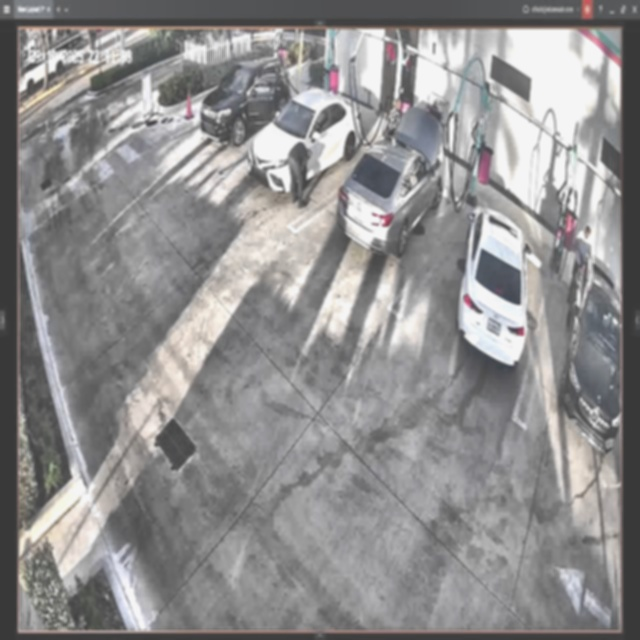Car: (339, 109, 445, 255), (249, 86, 363, 189), (458, 206, 525, 369), (202, 59, 293, 147)
